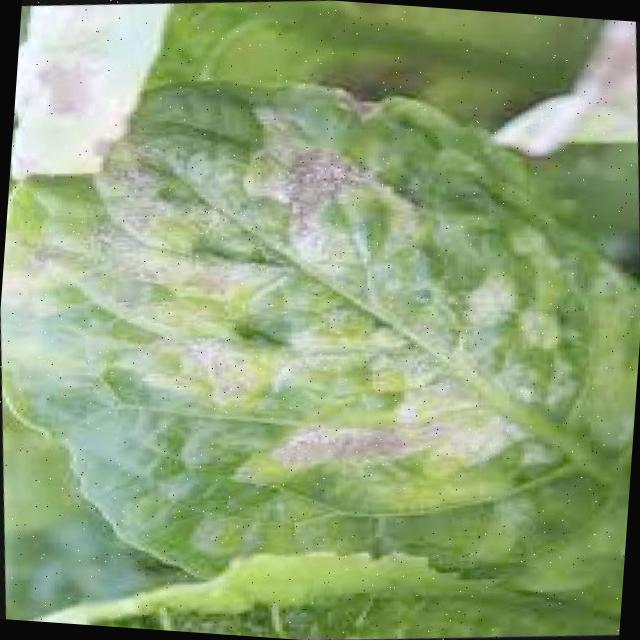Downy_Mildew: (103, 103, 481, 568)
